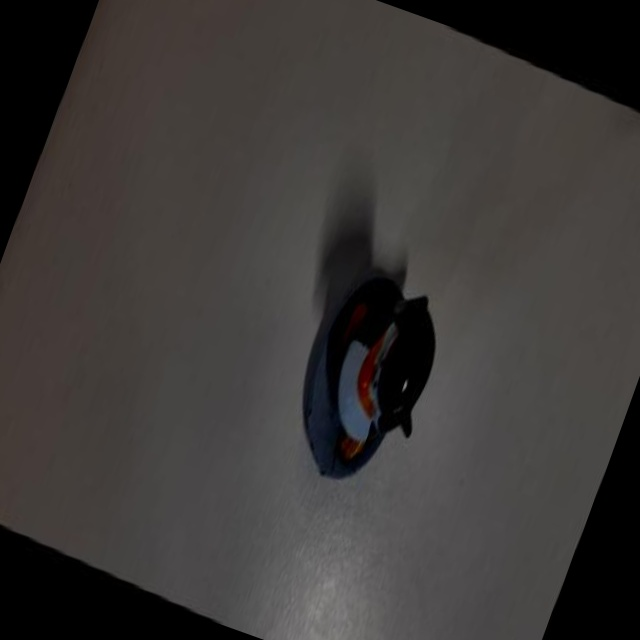Penguin: (254, 232, 475, 534)
